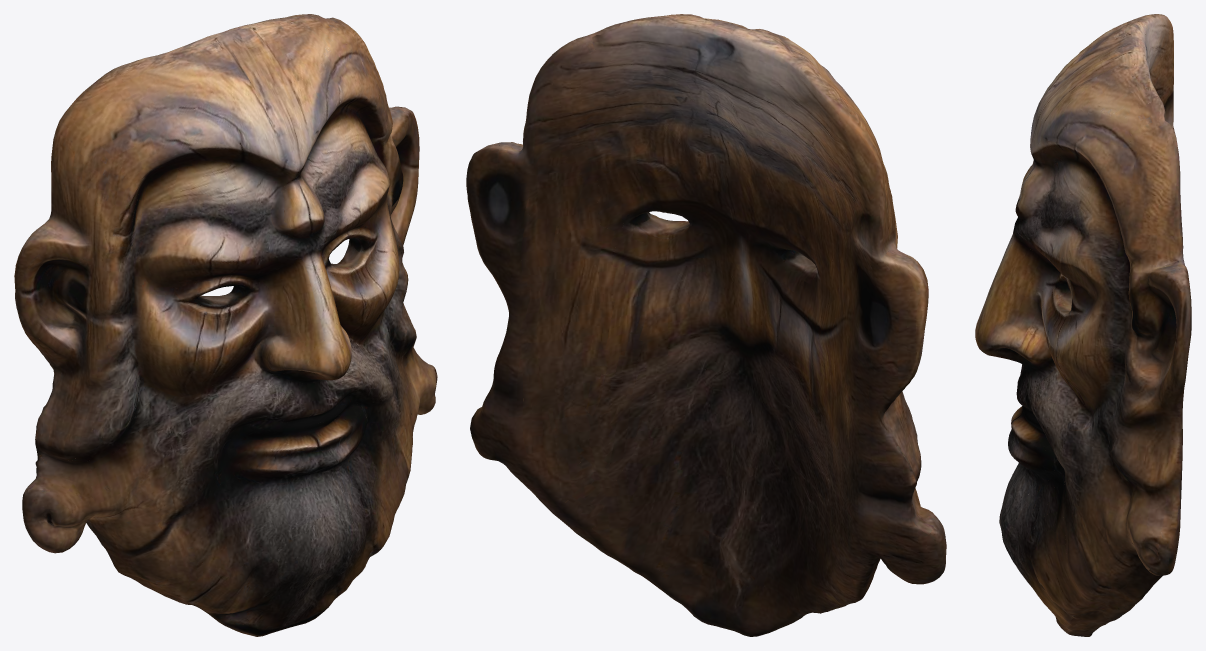
Rendered from mask-e.glb.
3 renders of one model, left to right at view 1: azimuth 30°, elevation 25°; view 2: azimuth 150°, elevation 25°; view 3: azimuth 270°, elevation 25°, orthographic. The views are drawn at different scales.
Parts seen in each view (by area): view 1: mask-h; view 2: mask-h; view 3: mask-h.
Boxes of the visible parts, x1=… form: mask-h: x1=14, y1=14, x2=437, y2=636; mask-h: x1=466, y1=14, x2=946, y2=636; mask-h: x1=975, y1=14, x2=1191, y2=636.
Size of the model in its own units: 0.2619 by 0.3424 by 0.1168.
Materials: 1 (1 with a texture image).
